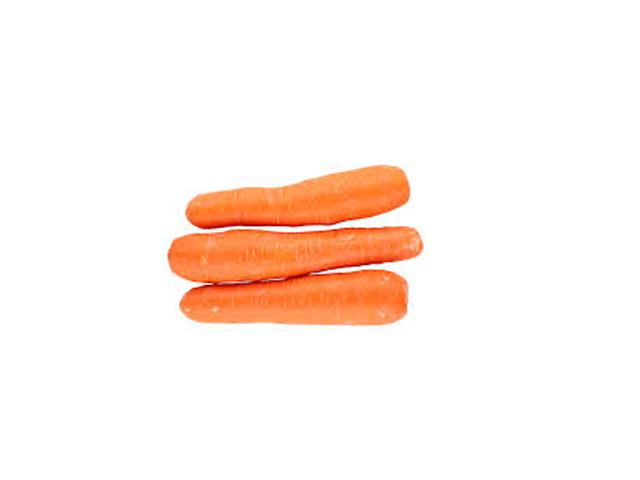carrot: (157, 274, 424, 331)
